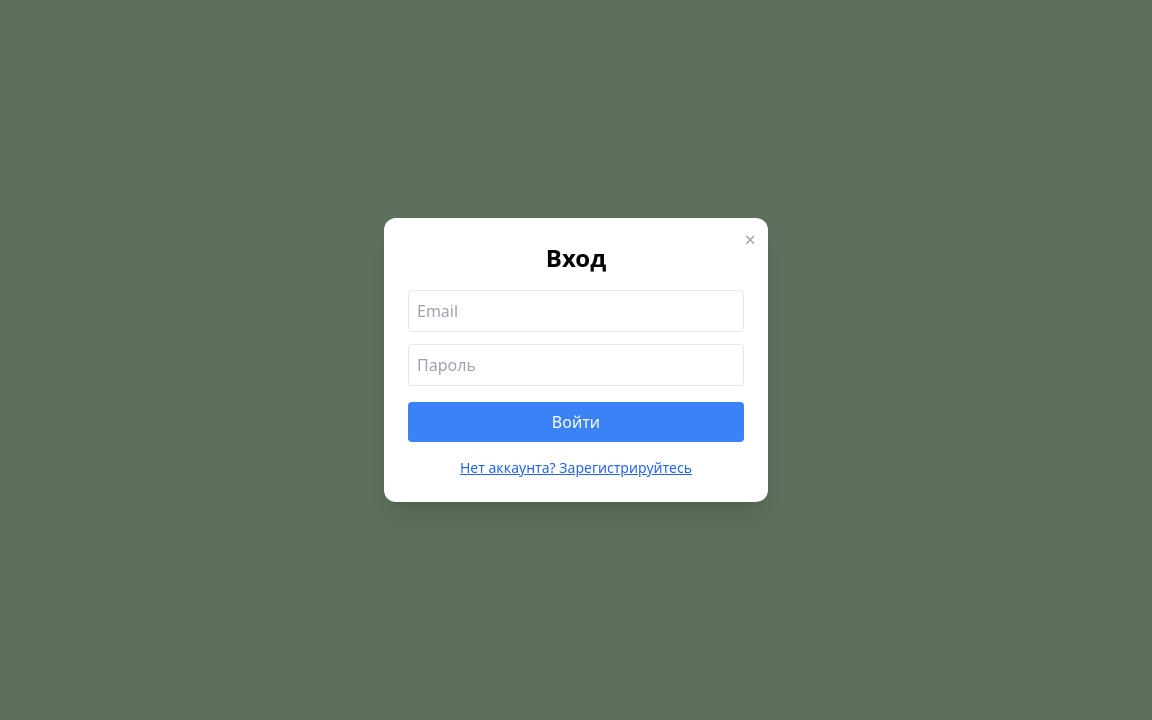
Test: AuthForm.vue › показывает ошибку при некорректном email
Type "not-an-email" into the field with placeholder "Email" at [576, 311], box [408,290,744,332]
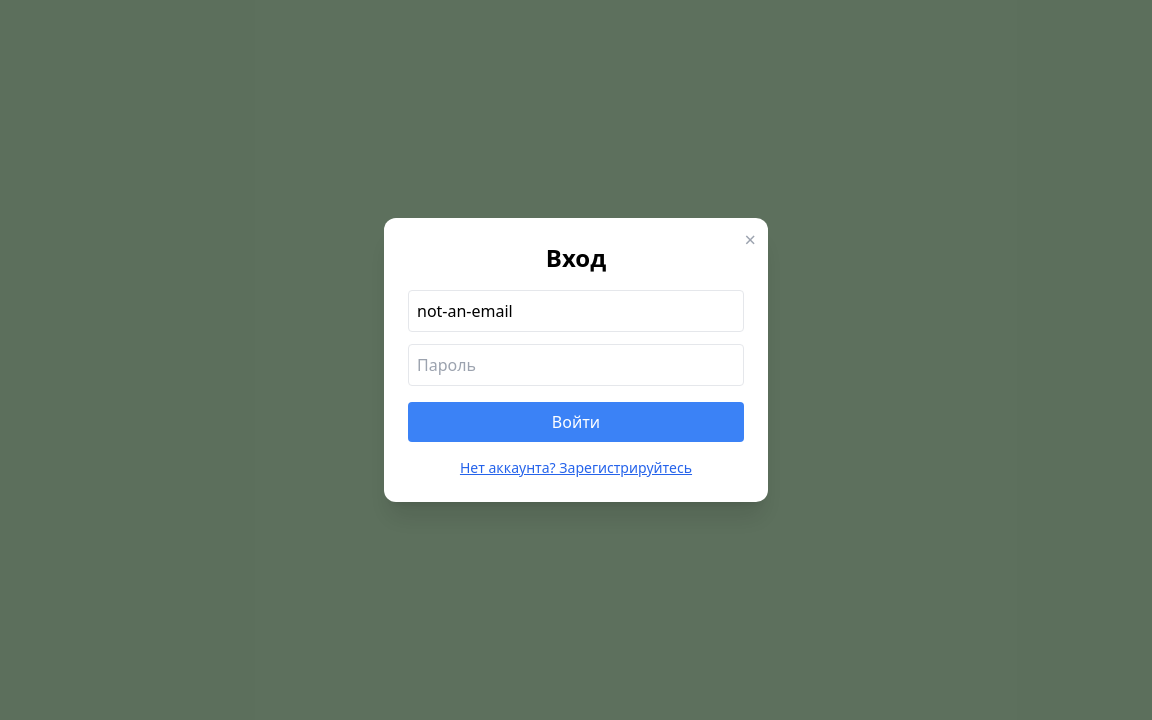
Type "123456" into the password field with placeholder "Пароль" at [576, 365], box [408,344,744,386]
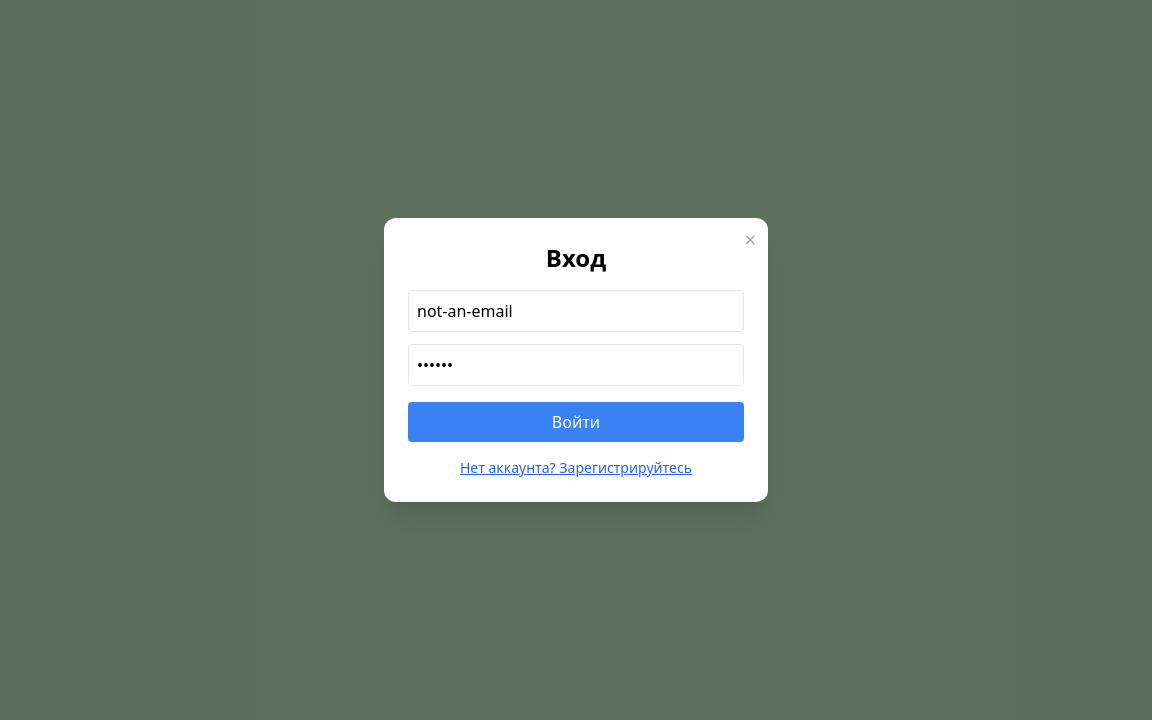
Click the button "Войти" at [576, 422], box [408,402,744,442]
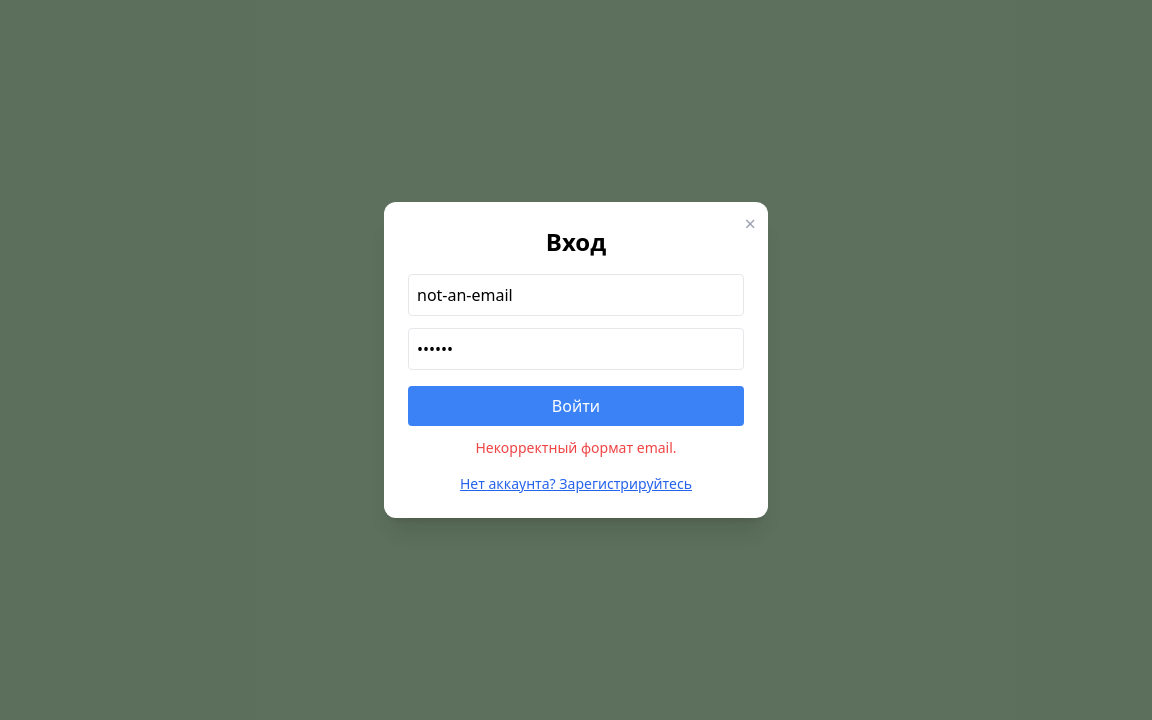
Now the text "Некорректный формат email." is shown, box [475,438,677,457]
